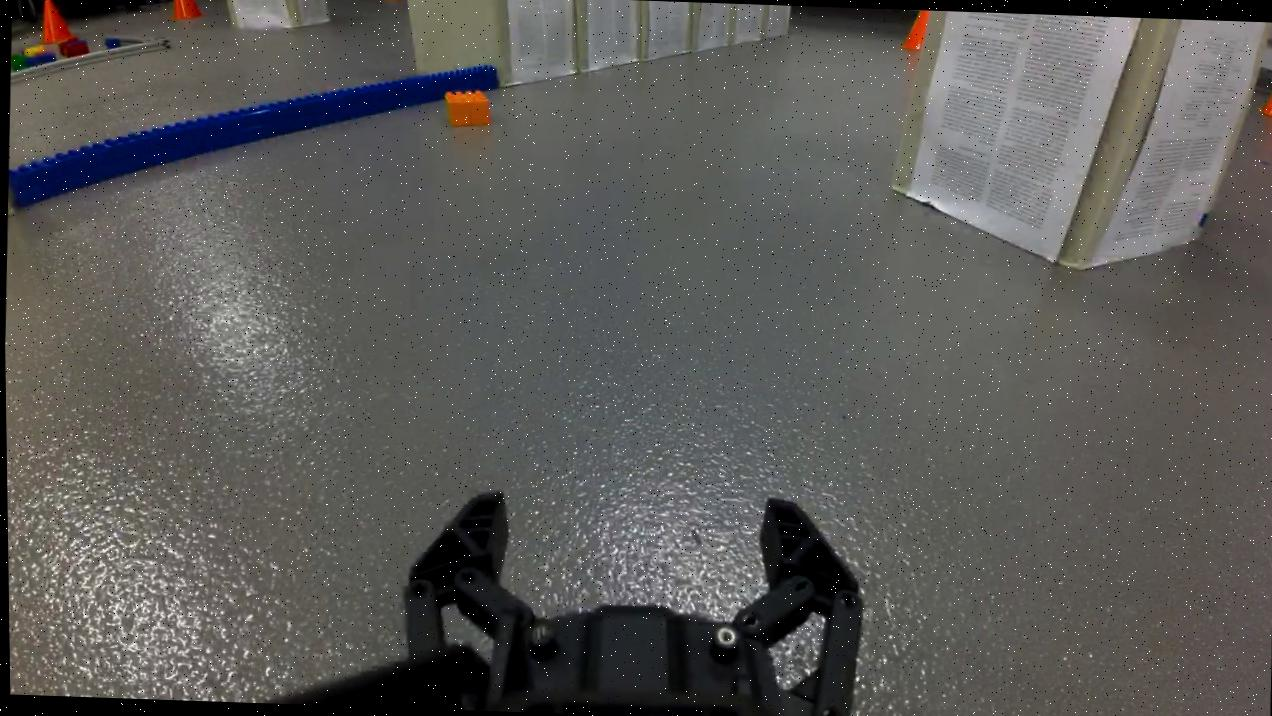4x4lego: (442, 89, 494, 128)
